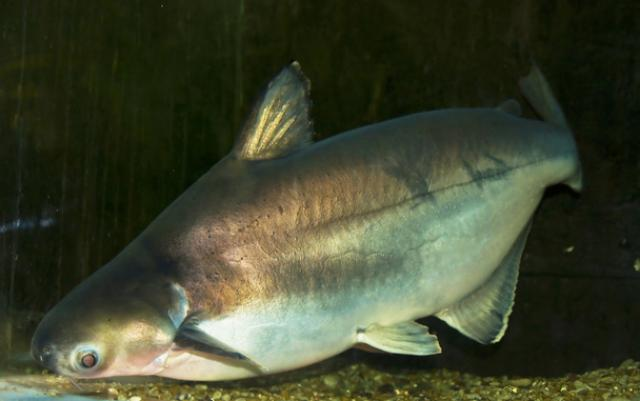Sirip Anal: (442, 211, 550, 351)
Sirip Dada: (168, 320, 276, 390)
Sirip Ekor: (502, 46, 622, 198)
Sirip Perut: (346, 312, 442, 362)
Sirip Punggung: (233, 50, 333, 170)
